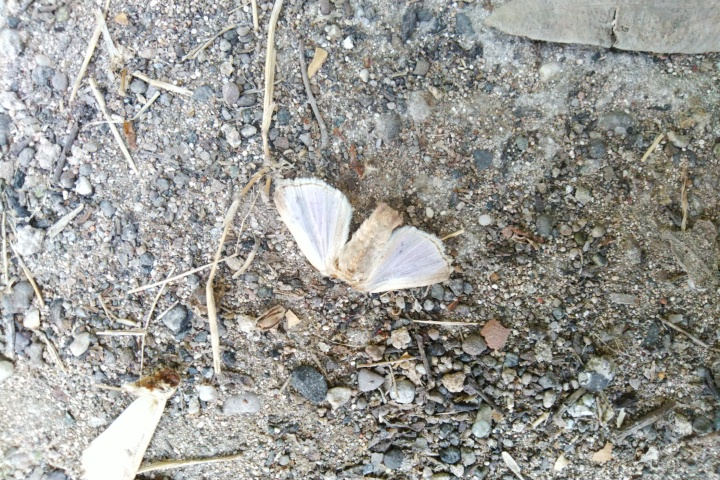INS-B: (266, 173, 461, 294)
